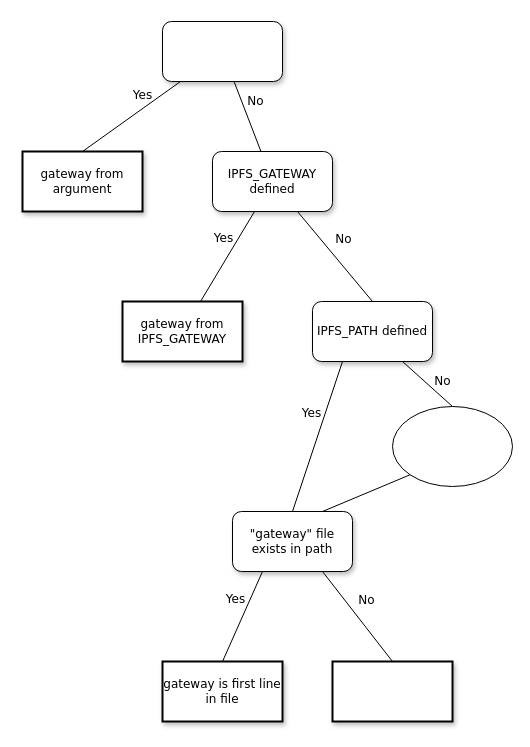
Image size: 530x747. Some labels were removed from this diagram. Each missing label, with the centre of its shape:
"assume $HOME/.ipfs" belongs at (452,446).
"fallback gateway is dweb.link" belongs at (393,692).
"has gateway argument" belongs at (223,52).
